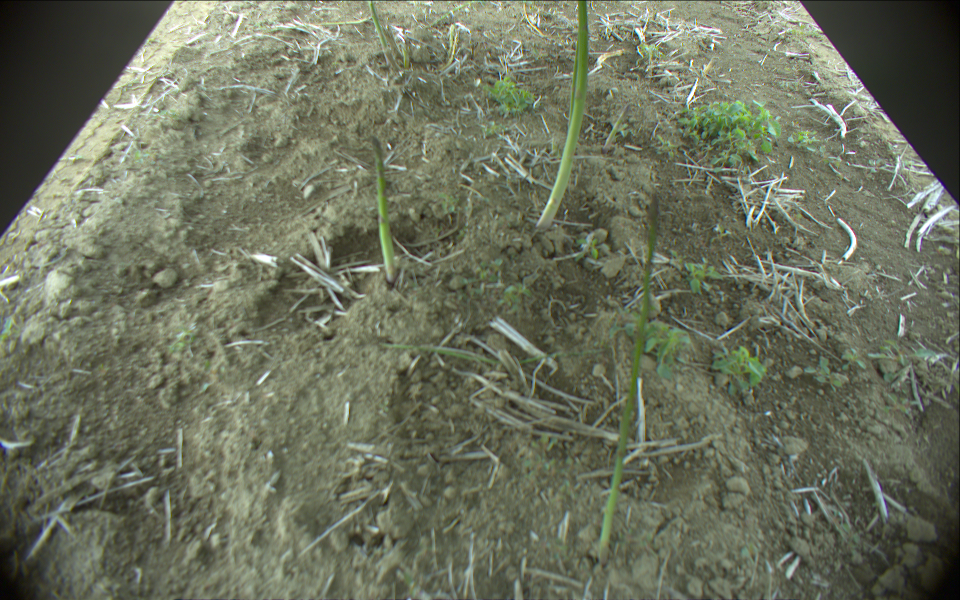aspa: (596, 192, 667, 568), (533, 1, 591, 231), (366, 137, 401, 285), (367, 1, 396, 69), (435, 25, 465, 73), (518, 1, 552, 40), (303, 14, 373, 27), (402, 37, 410, 69)
